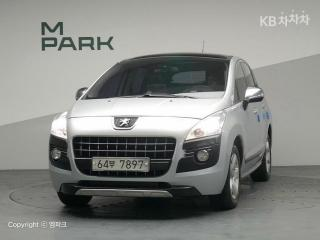4: (103, 159, 109, 169)
6: (97, 159, 103, 169)
7: (118, 159, 126, 169), (138, 160, 144, 170)
8: (126, 160, 131, 170)
9: (131, 159, 138, 169)
plate: (88, 153, 153, 174)
부: (109, 159, 116, 170)
